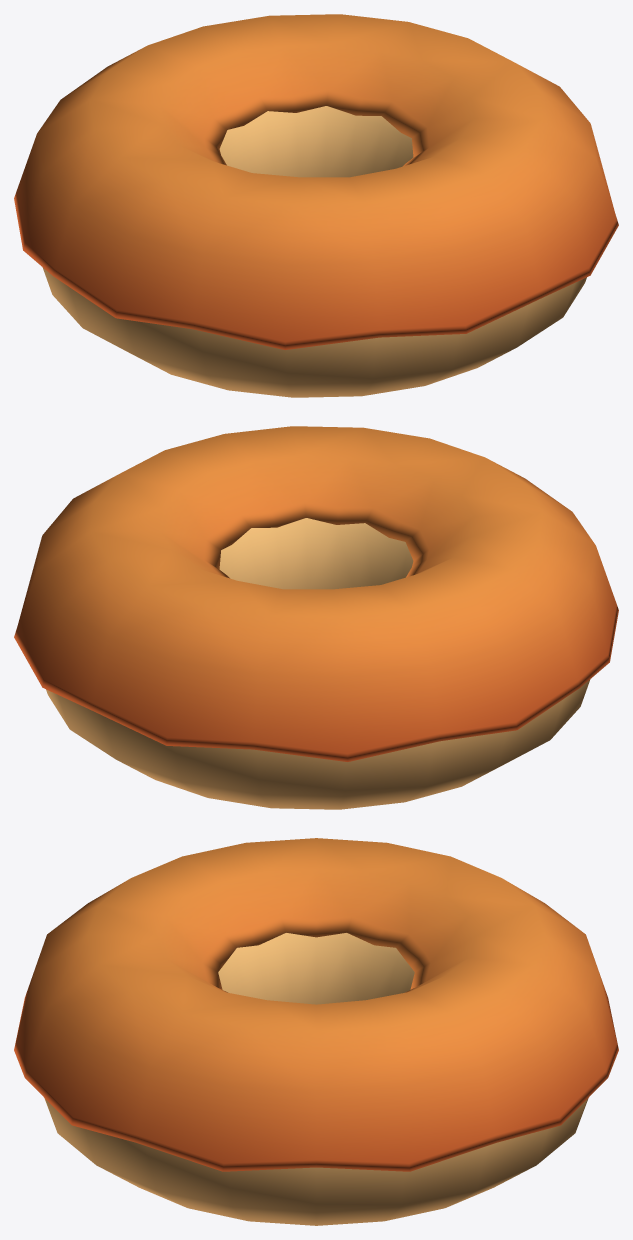
The model's file is donut_orange.fbx.
3 views of the same model, one above another, from view 1: azimuth 30°, elevation 25°; view 2: azimuth 150°, elevation 25°; view 3: azimuth 270°, elevation 25° (orthographic).
Parts seen in each view (by area): view 1: donut_orange; view 2: donut_orange; view 3: donut_orange.
Boxes of the visible parts, left/top/right/bottom form: donut_orange: left=14, top=14, right=618, bottom=397; donut_orange: left=14, top=426, right=618, bottom=809; donut_orange: left=14, top=838, right=618, bottom=1225.
Bounding box in the file's own units: 93.8 × 33.51 × 92.52.
